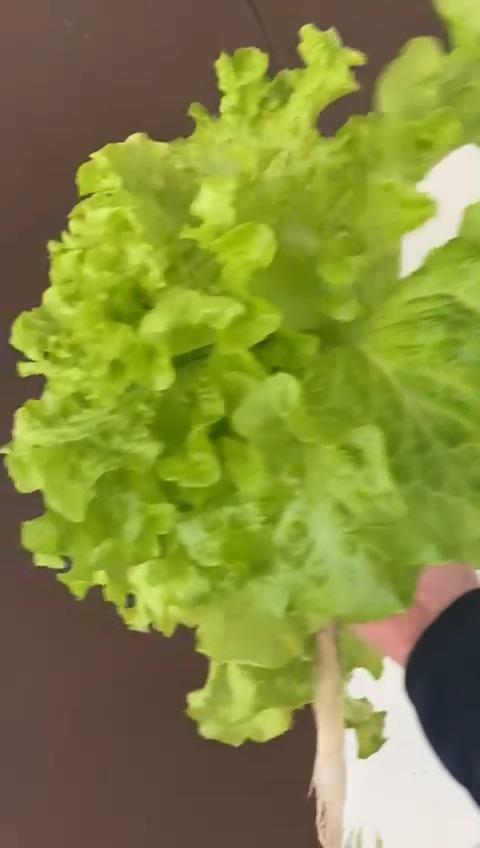Healthy: (12, 0, 480, 753)
